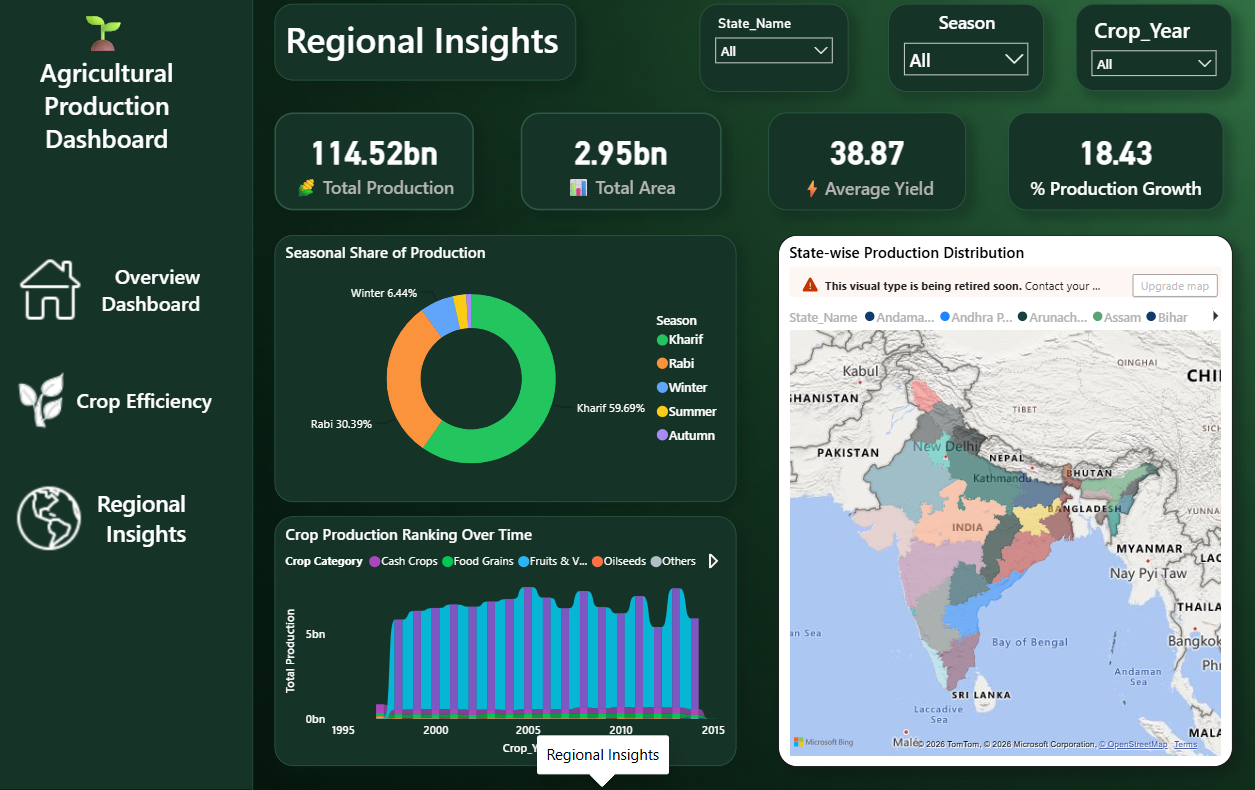

What the dashboard file says about the page in this screenshot:
{"tool":"powerbi","page":{"name":"Regional Insights","canvas":[1362,857],"ordinal":2},"visuals":[{"type":"card","fields":{"Values":["Dim_Crop.No Data Message"]},"box":[327,253.9,438.6,272.5],"z":0},{"type":"shape","box":[0,0,277.9,856.6],"z":1000},{"type":"filledMap","title":"State-wise Production Distribution","fields":{"Category":["Dim_State.State_Name"],"Series":["Dim_State.State_Name"]},"box":[835.7,265.7,482.9,565.7],"z":2000},{"type":"card","fields":{"Values":["Dim_Crop.Total Production Card"]},"box":[300.9,135.1,211.9,104.4],"z":3000},{"type":"card","fields":{"Values":["Dim_Crop.Total Area Card"]},"box":[561.9,135.1,213.4,104.4],"z":4000},{"type":"card","fields":{"Values":["Dim_Crop.Average Yield Card"]},"box":[825.9,135.1,210.3,104.4],"z":5000},{"type":"card","fields":{"Values":["Dim_Crop.Production Growth Card"]},"box":[1080,135.1,228.7,104.4],"z":6000},{"type":"slicer","fields":{"Values":["Dim_State.State_Name"]},"box":[752.2,20,158.1,93.6],"z":7000},{"type":"slicer","title":"Season","fields":{"Values":["Dim_Season.Season"]},"box":[953.4,20,165.8,93.6],"z":8000},{"type":"slicer","fields":{"Values":["Dim_Year.Crop_Year"]},"box":[1152.3,19.9,166.1,93],"z":9000},{"type":"ribbonChart","title":"Crop Production Ranking Over Time","fields":{"Category":["Dim_Year.Crop_Year"],"Series":["Fact_Agriculture.Crop Category"],"Y":["Fact_Agriculture.Total Production"]},"box":[300.9,564.9,491.3,265.6],"z":10000},{"type":"donutChart","title":"Seasonal Share of Production","fields":{"Category":["Dim_Season.Season"],"Y":["Fact_Agriculture.Total Production"]},"box":[300.9,265.6,491.3,284],"z":11000},{"type":"actionButton","box":[20,526.6,190.4,81.4],"z":12000},{"type":"actionButton","box":[20,405.3,218,72.2],"z":13000},{"type":"actionButton","box":[21.5,282.5,204.2,81.4],"z":14000},{"type":"textbox","box":[20,20,204.3,184.3],"z":15000},{"type":"textbox","box":[300.9,20,320.9,81.4],"z":16000}]}

Visuals, with their boxes on the page's 1362x857 design canvas (x1, y1, x2, y2). These are canvas units, not pixel positions in the 1255x790 screenshot, which may show the page scaled, cropped or inside an application window:
card - Dim_Crop.No Data Message: bbox=[327, 254, 766, 526]
shape: bbox=[0, 0, 278, 857]
"State-wise Production Distribution" filledMap: bbox=[836, 266, 1319, 831]
card - Dim_Crop.Total Production Card: bbox=[301, 135, 513, 240]
card - Dim_Crop.Total Area Card: bbox=[562, 135, 775, 240]
card - Dim_Crop.Average Yield Card: bbox=[826, 135, 1036, 240]
card - Dim_Crop.Production Growth Card: bbox=[1080, 135, 1309, 240]
slicer - Dim_State.State_Name: bbox=[752, 20, 910, 114]
"Season" slicer: bbox=[953, 20, 1119, 114]
slicer - Dim_Year.Crop_Year: bbox=[1152, 20, 1318, 113]
"Crop Production Ranking Over Time" ribbonChart: bbox=[301, 565, 792, 830]
"Seasonal Share of Production" donutChart: bbox=[301, 266, 792, 550]
actionButton: bbox=[20, 527, 210, 608]
actionButton: bbox=[20, 405, 238, 478]
actionButton: bbox=[22, 282, 226, 364]
textbox: bbox=[20, 20, 224, 204]
textbox: bbox=[301, 20, 622, 101]
